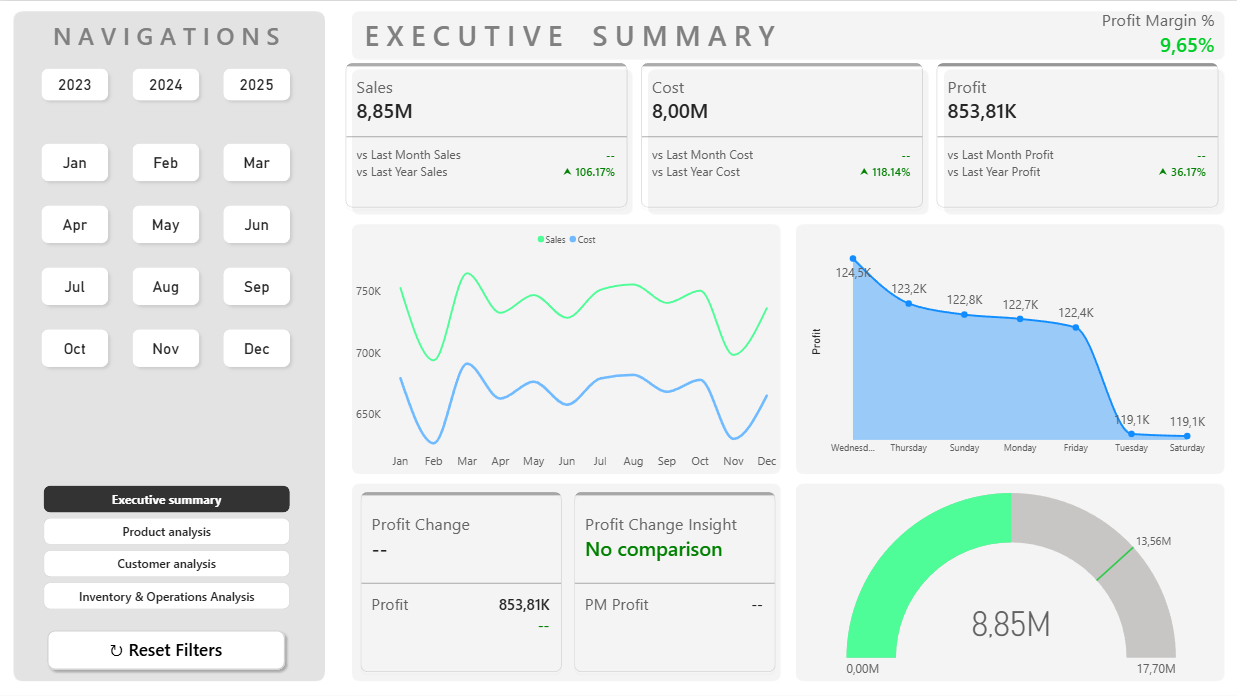

The page's visual inventory and layout, read from the dashboard file:
{"tool":"powerbi","page":{"name":"Executive summary","canvas":[1920,1080],"ordinal":0},"visuals":[{"type":"cardVisual","fields":{"Data":["_Measures.Profit"]},"box":[1446.7,91.7,448.6,235.7],"z":0},{"type":"cardVisual","fields":{"Data":["_Measures.Cost"]},"box":[988.6,91.4,448.6,235.7],"z":1000},{"type":"advancedSlicerVisual","fields":{"Values":["DimDate.MonthName"]},"box":[32.5,210,450,372.5],"z":2000},{"type":"advancedSlicerVisual","fields":{"Values":["DimDate.Year"]},"box":[32.5,92.5,450,73.3],"z":3000},{"type":"cardVisual","fields":{"Data":["_Measures.Sales"]},"box":[530,91.4,448.6,235.7],"z":4000},{"type":"textbox","box":[64.2,27.5,385,55.8],"z":5000},{"type":"textbox","box":[564.2,23.3,643.3,60],"z":6000},{"type":"clusteredBarChart","fields":{"Y":["_Measures.Sales","_Measures.Cost"],"Category":["DimDate.MonthName"]},"box":[548.3,346.7,662.5,385],"z":7000},{"type":"lineChart","fields":{"Y":["_Measures.Sales","_Measures.Cost"],"Category":["DimDate.MonthName"]},"box":[550,352.5,658.3,377.5],"z":8000},{"type":"cardVisual","title":"dsdd","fields":{"Data":["_Measures.Profit Margin %"]},"box":[1686.7,12.5,213.3,77.5],"z":9000},{"type":"cardVisual","fields":{"Data":["_Measures.Profit Change","_Measures.Profit Change Insight"]},"box":[552.5,755,655,290],"z":10000},{"type":"gauge","fields":{"TargetValue":["_Measures.Target"],"Y":["_Measures.Sales"]},"box":[1247.5,761.7,642.5,290],"z":11000},{"type":"areaChart","fields":{"Y":["_Measures.Profit"],"Category":["DimDate.Weekday"]},"box":[1240,352.5,651.7,370],"z":12000},{"type":"actionButton","box":[65,967.5,385,77.5],"z":13000},{"type":"pageNavigator","box":[67.5,750,382.5,195],"z":14000}]}

Visuals, with their boxes in screenshot pixels (x1, y1, x2, y2), scaled from the page's 1920x1080 canvas onto the 1237x696 screenshot:
cardVisual - _Measures.Profit: 932/59/1221/211
cardVisual - _Measures.Cost: 637/59/926/211
advancedSlicerVisual - DimDate.MonthName: 21/135/311/375
advancedSlicerVisual - DimDate.Year: 21/60/311/107
cardVisual - _Measures.Sales: 341/59/630/211
textbox: 41/18/289/54
textbox: 363/15/778/54
clusteredBarChart - _Measures.Sales x _Measures.Cost: 353/223/780/472
lineChart - _Measures.Sales x _Measures.Cost: 354/227/778/470
"dsdd" cardVisual: 1087/8/1224/58
cardVisual - _Measures.Profit Change x _Measures.Profit Change Insight: 356/487/778/673
gauge - _Measures.Target x _Measures.Sales: 804/491/1218/678
areaChart - _Measures.Profit x DimDate.Weekday: 799/227/1219/466
actionButton: 42/624/290/673
pageNavigator: 43/483/290/609
